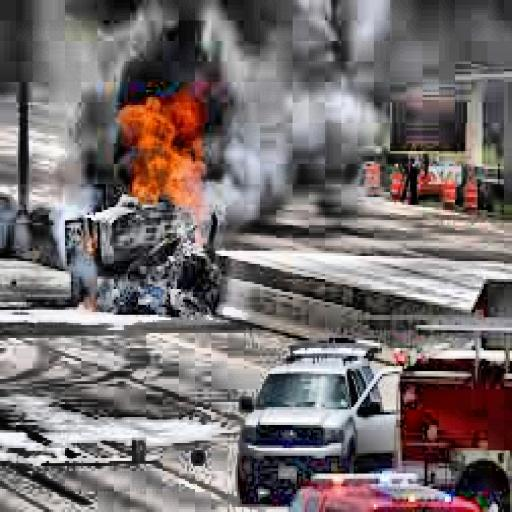fire: (114, 92, 211, 210)
